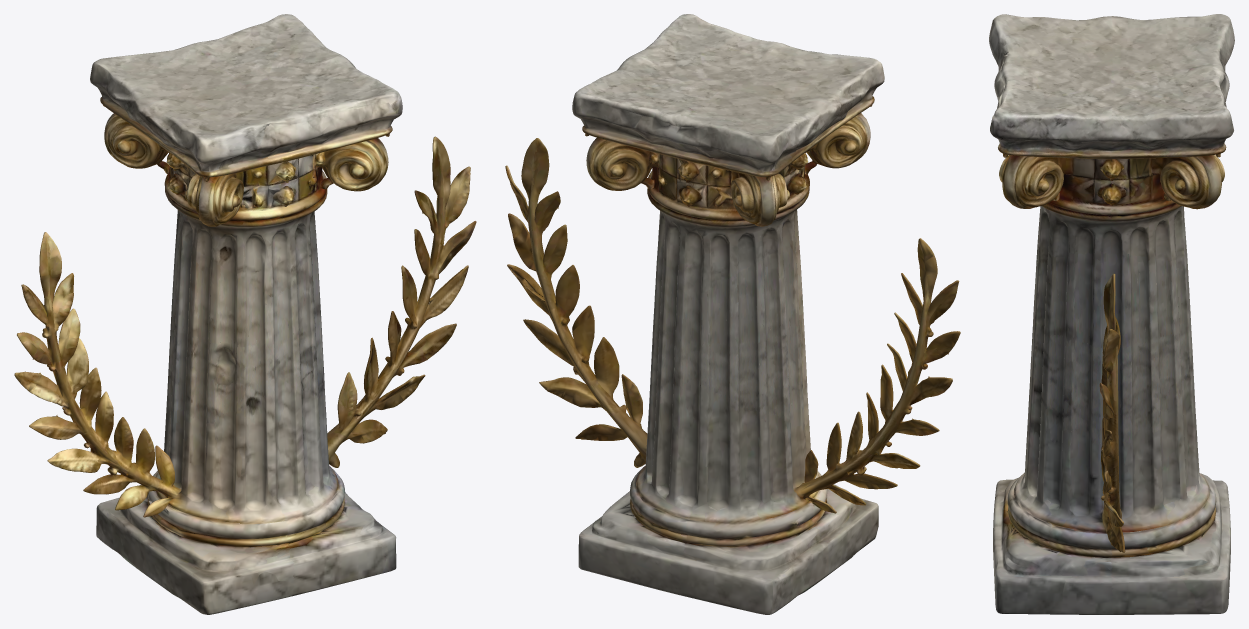
Rendered from column.glb.
3 views of the same model, side by side, from view 1: azimuth 30°, elevation 25°; view 2: azimuth 150°, elevation 25°; view 3: azimuth 270°, elevation 25° (orthographic). The views are drawn at different scales.
Visible parts, largest first — view 1: tripo_node_1d3250b2-bd14-4f85-953b-3b7028492d67; view 2: tripo_node_1d3250b2-bd14-4f85-953b-3b7028492d67; view 3: tripo_node_1d3250b2-bd14-4f85-953b-3b7028492d67.
Part boxes in pixels (x1,y1,x2,y2): tripo_node_1d3250b2-bd14-4f85-953b-3b7028492d67: (14, 14, 476, 614); tripo_node_1d3250b2-bd14-4f85-953b-3b7028492d67: (505, 14, 960, 614); tripo_node_1d3250b2-bd14-4f85-953b-3b7028492d67: (989, 14, 1234, 614).
Size of the model in its own units: 0.979 by 0.9784 by 0.4352.
Materials: 1 (1 with a texture image).
